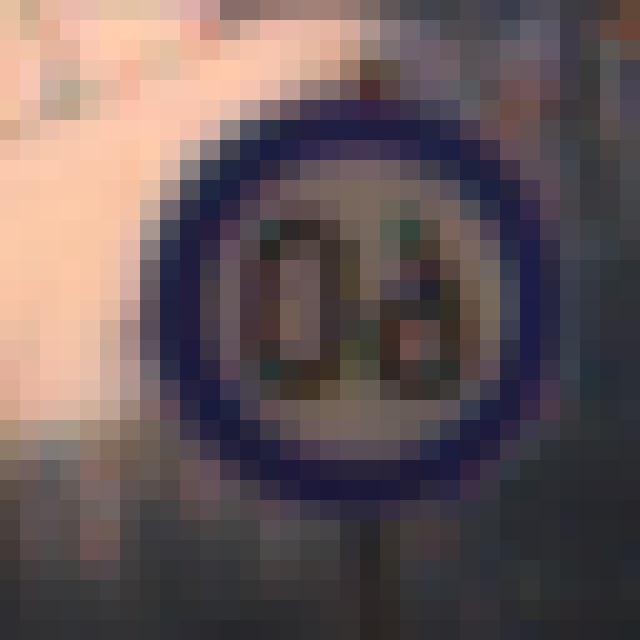SPEED-LIMIT-60: (115, 66, 574, 537)
